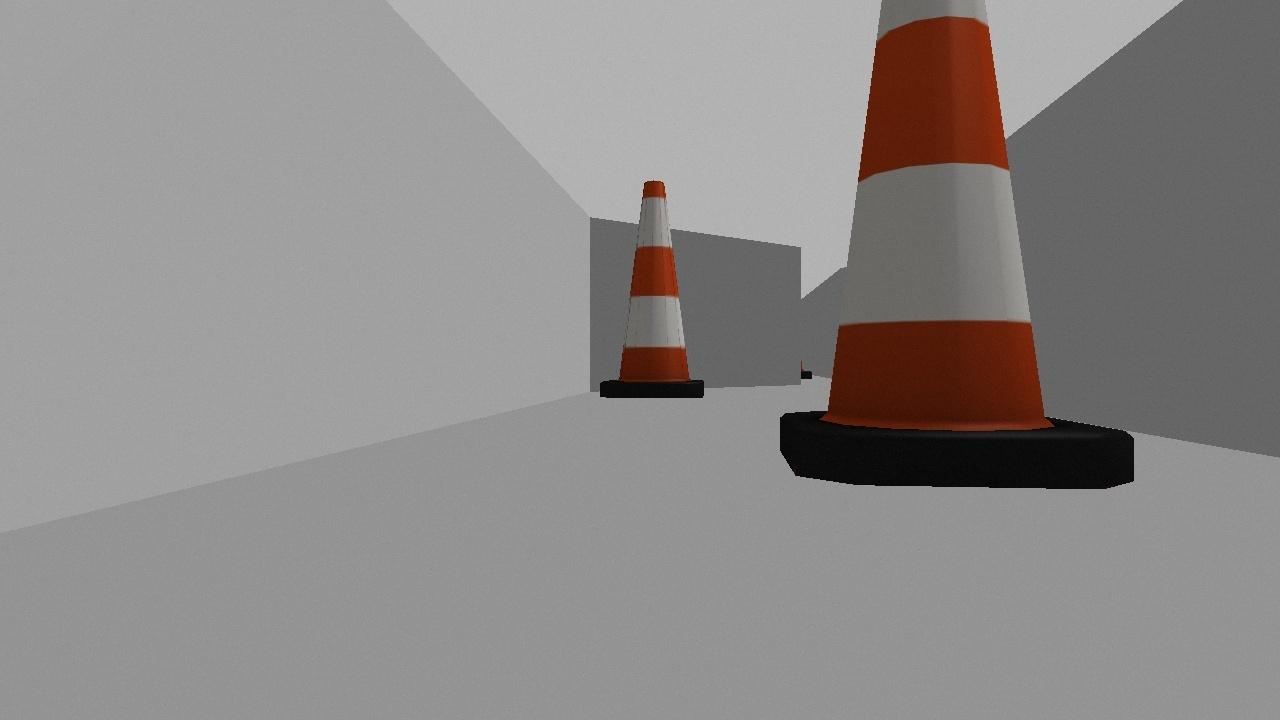cone_barrel: (760, 0, 1153, 499), (594, 172, 711, 402)
